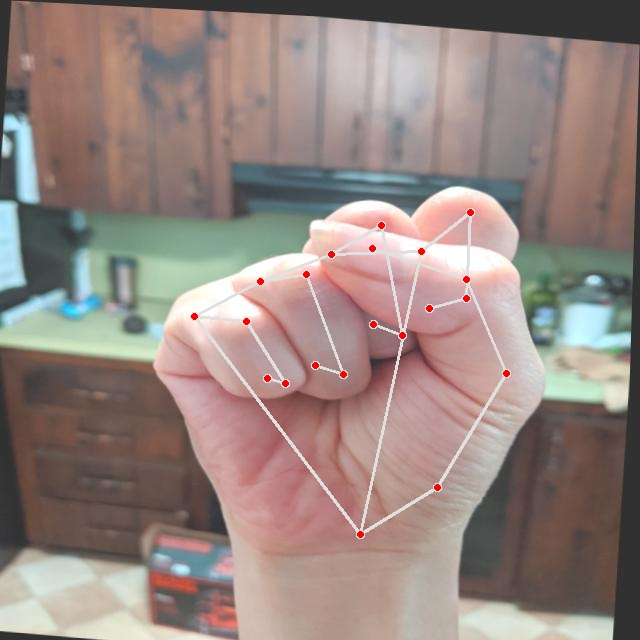S: (135, 151, 566, 587)
